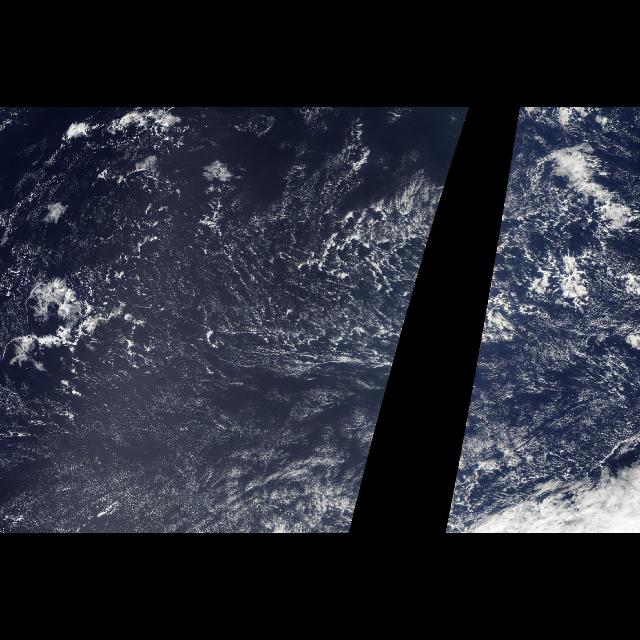Gravel: (126, 169, 450, 369), (475, 169, 623, 369)
Sugar: (8, 151, 434, 527), (445, 328, 639, 526)
